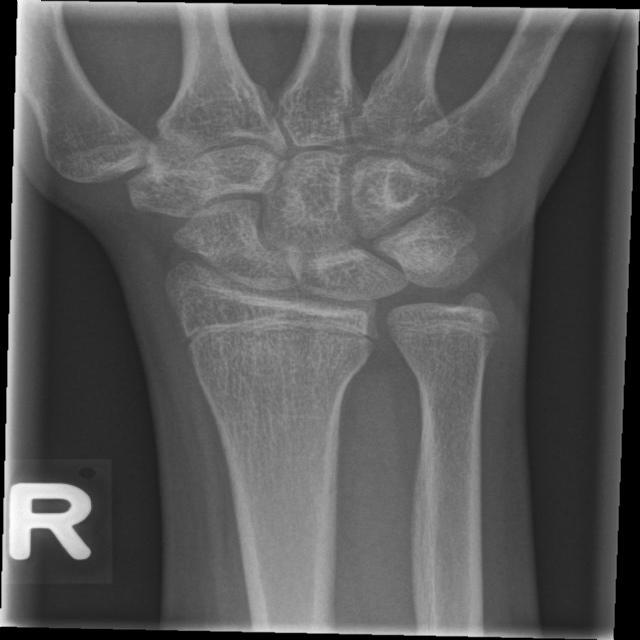fracture: (172, 299, 385, 362), (362, 304, 518, 352)
